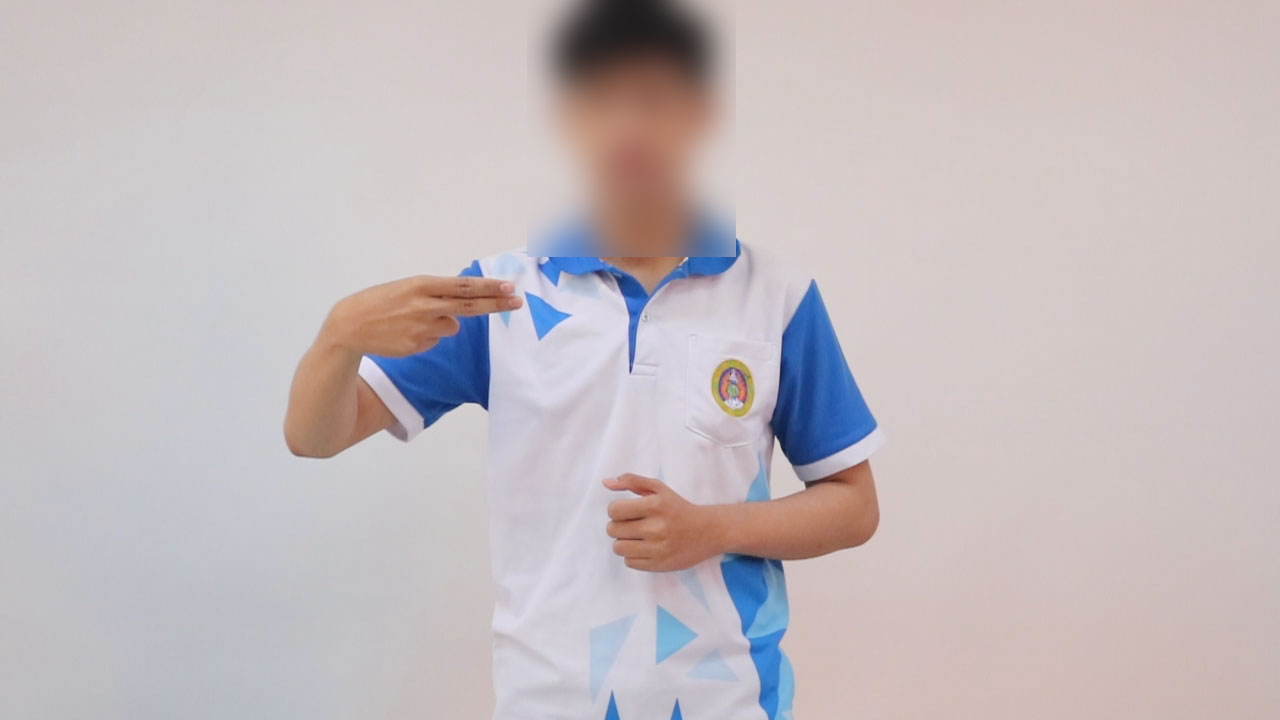hor: (313, 262, 534, 367)
